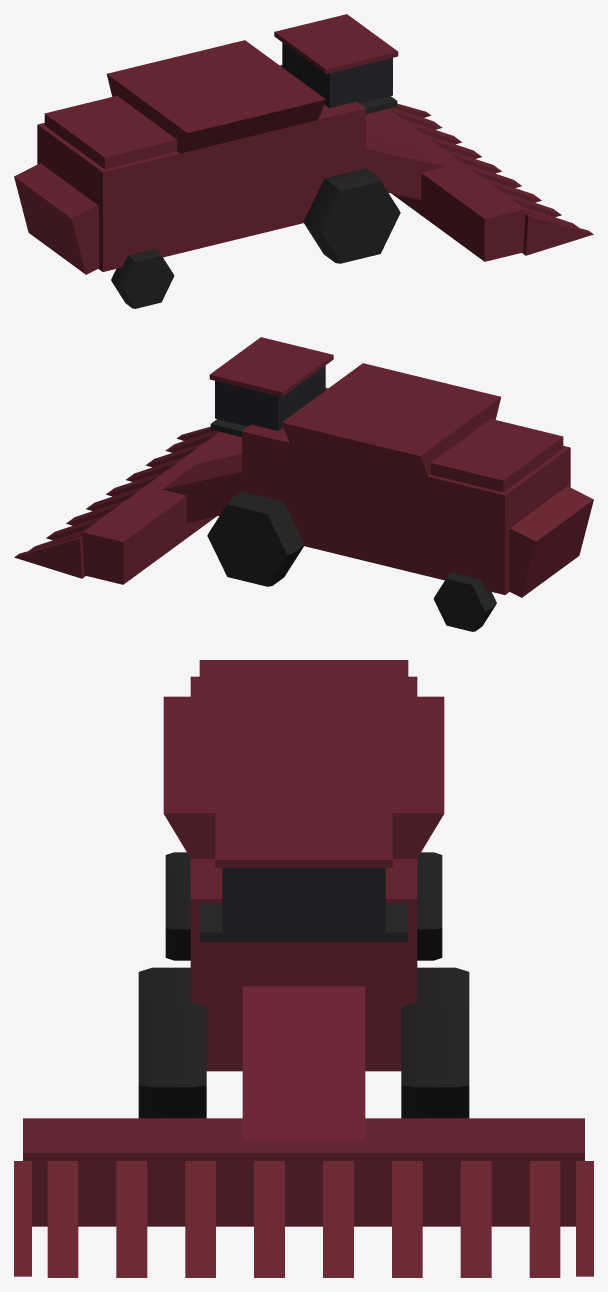
The model's file is SM_Prop_farm_combine_4_LOD2.glb.
3 views of the same model, one above another, from view 1: azimuth 30°, elevation 25°; view 2: azimuth 150°, elevation 25°; view 3: azimuth 270°, elevation 25° (orthographic). The views are drawn at different scales.
Visible parts, largest first — view 1: SM_Prop_farm_combine_4_LOD2; view 2: SM_Prop_farm_combine_4_LOD2; view 3: SM_Prop_farm_combine_4_LOD2.
Boxes of the visible parts, x1,y1,x2,y2 form: SM_Prop_farm_combine_4_LOD2: [14, 14, 593, 308]; SM_Prop_farm_combine_4_LOD2: [14, 337, 593, 631]; SM_Prop_farm_combine_4_LOD2: [14, 660, 593, 1277].
Bounding box in the file's own units: 10.3 × 3.8 × 6.4.
